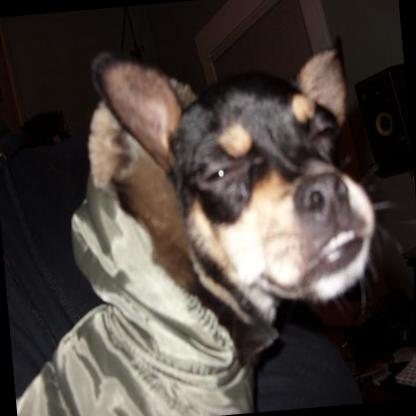miniature_pinscher: (91, 33, 392, 416)
